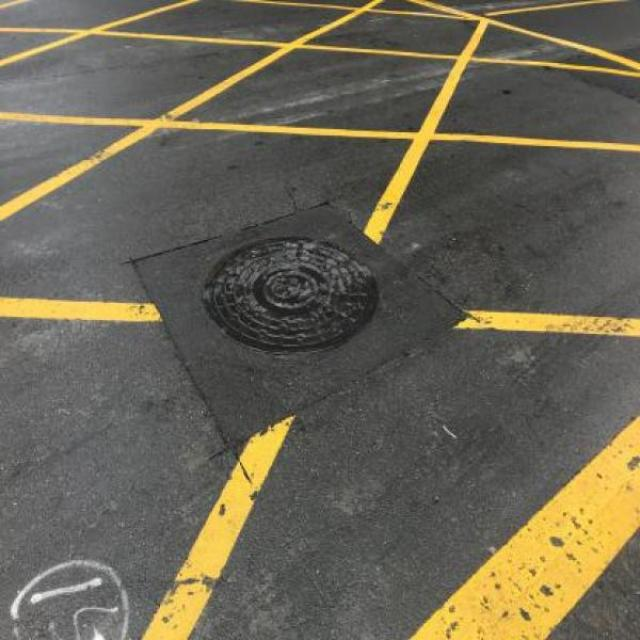Good: (200, 230, 390, 360)
